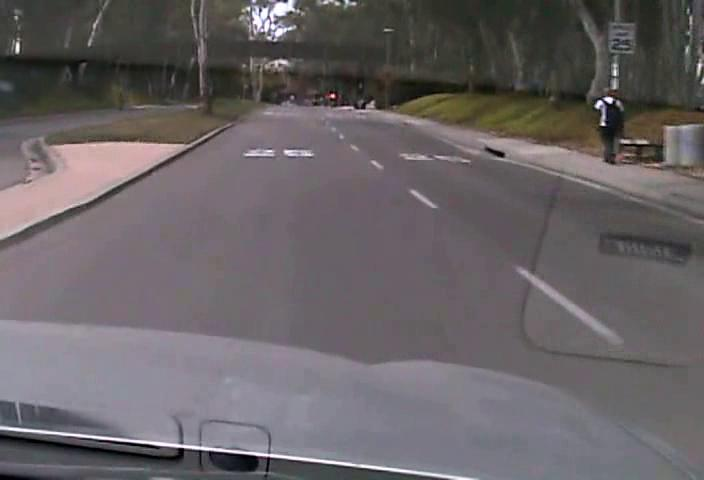speedLimit25: (607, 20, 635, 53)
